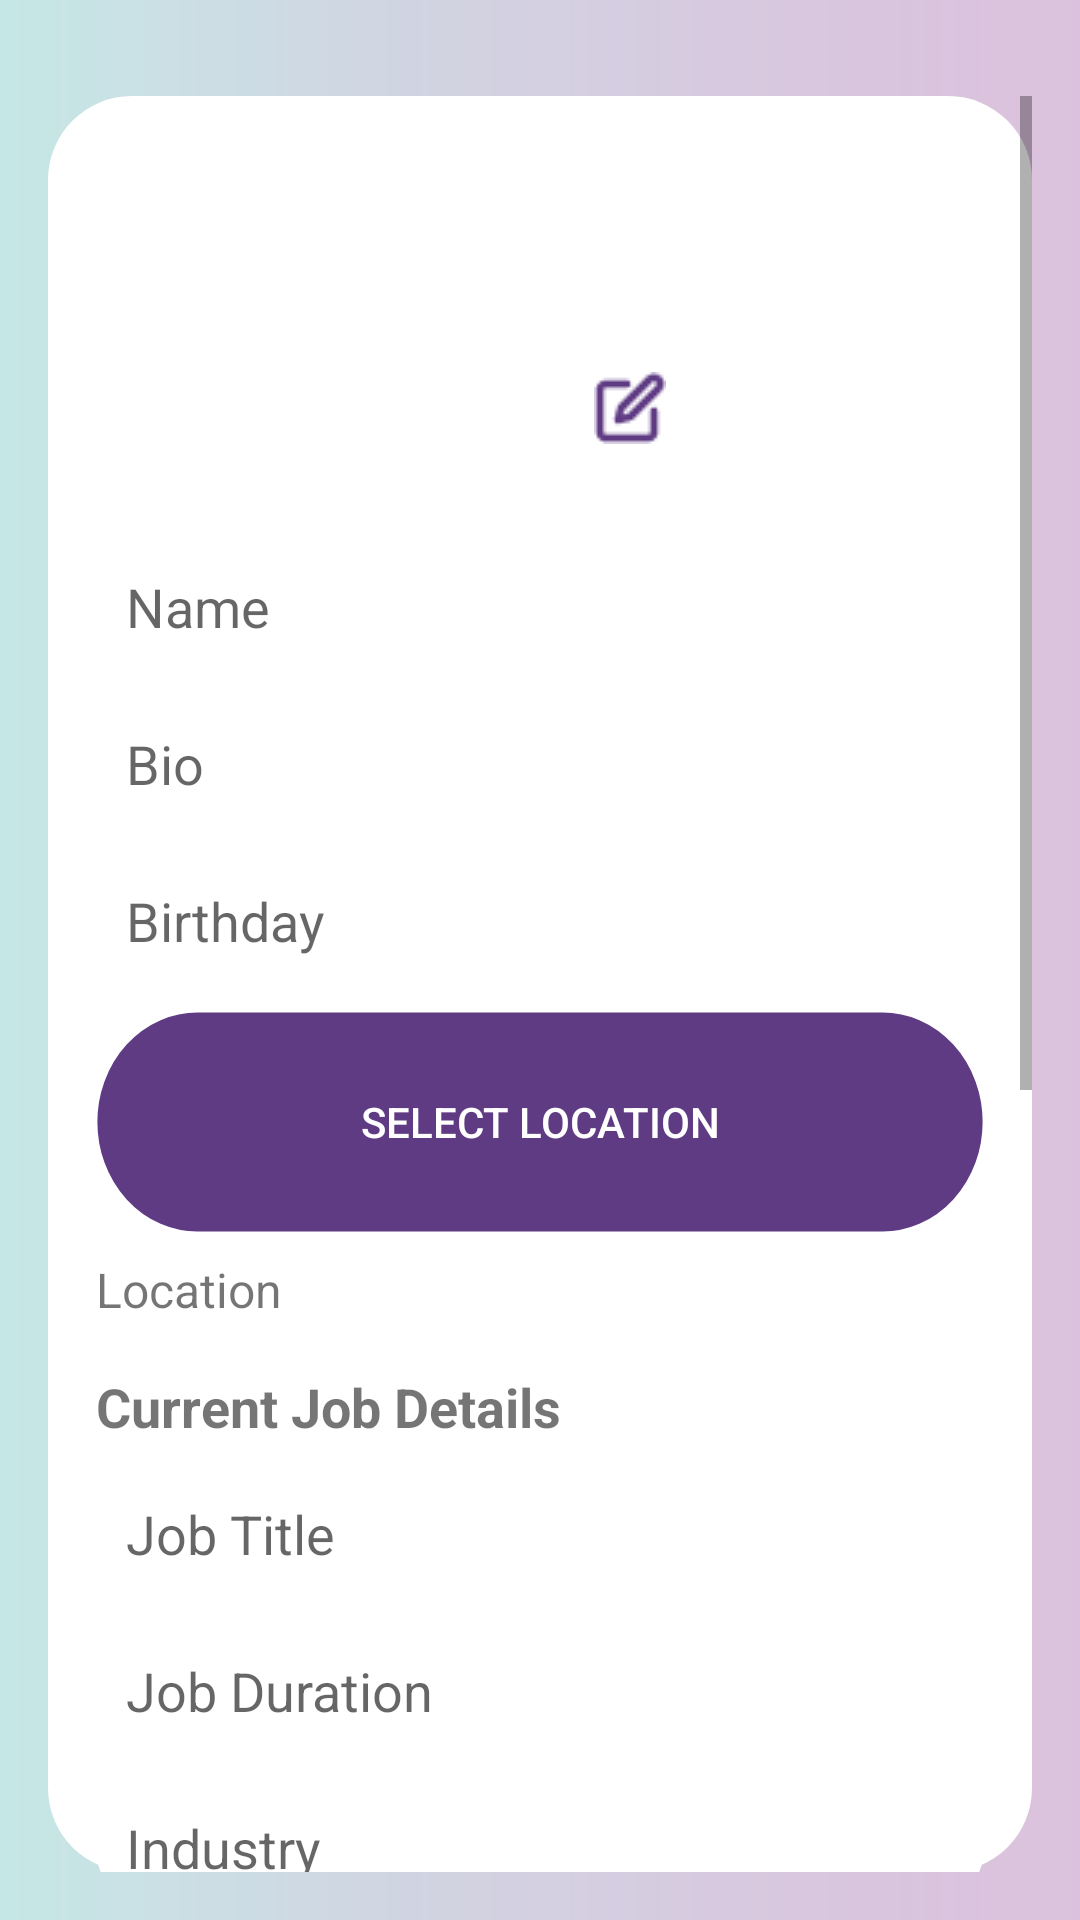

Where icons sit on this 1080×1920 app screen, as (x1, y1, x2, y2):
Edit profile picture button: (594, 372, 666, 444)
